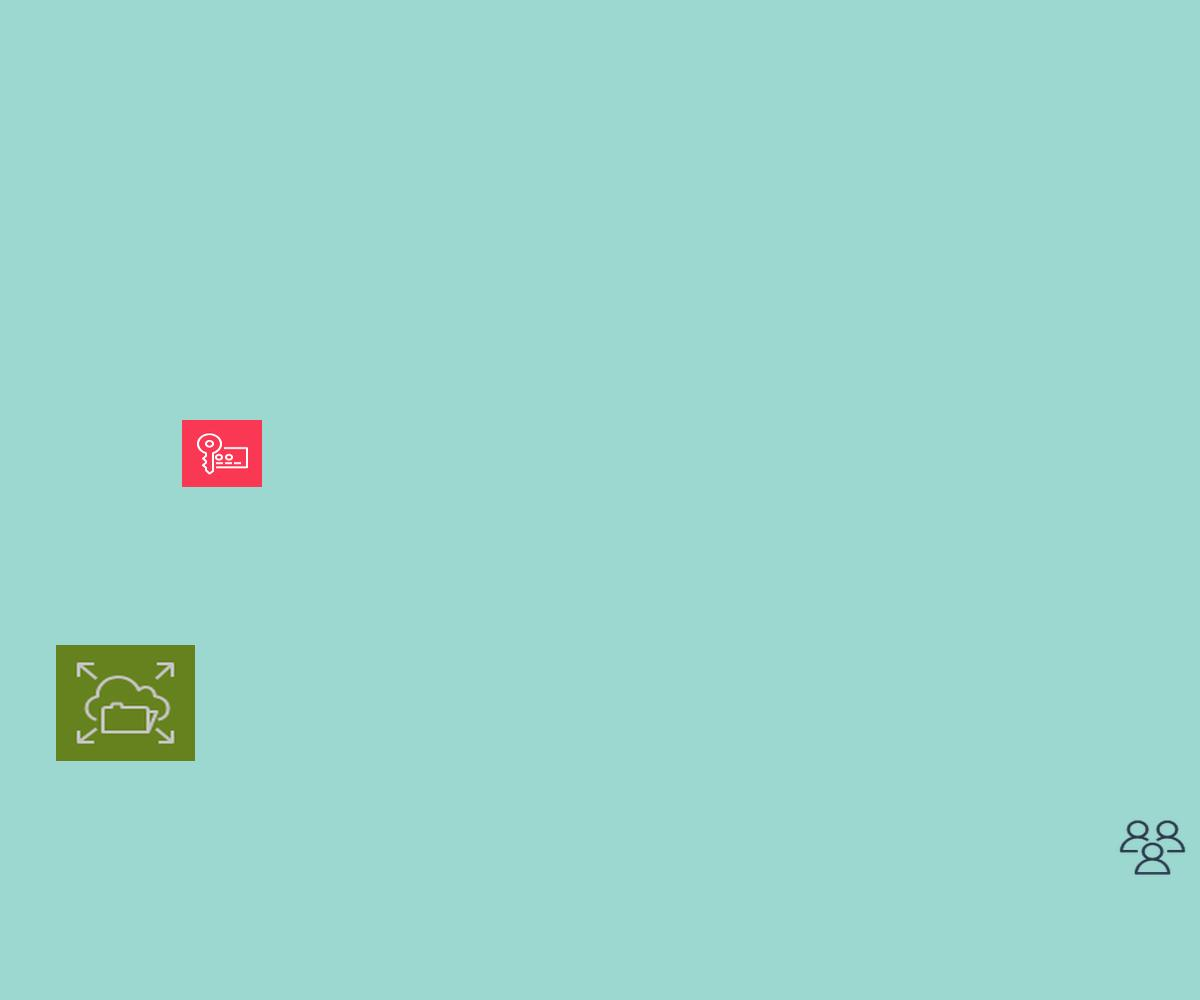AWS-EFS: (56, 645, 195, 761)
AWS-Key-Management-Service: (182, 420, 262, 487)
AWS-Res_Users: (1117, 818, 1188, 877)
